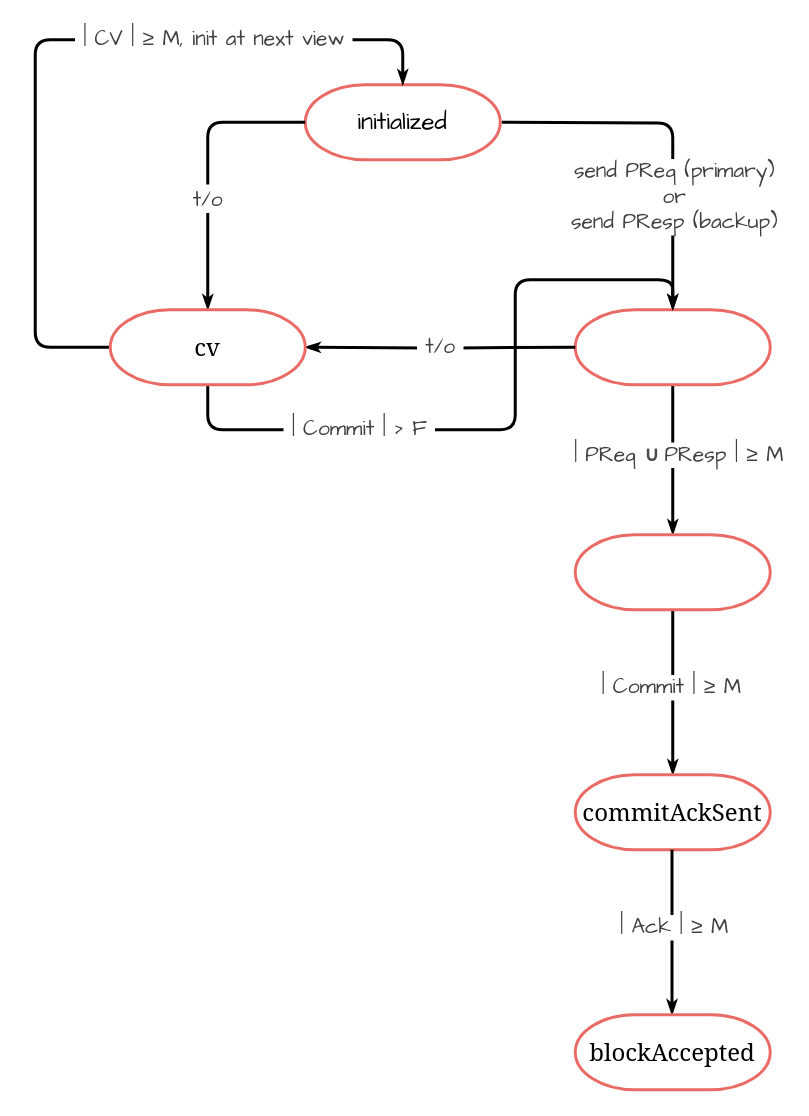
The diagram is 809 pixels wide and 1116 high, and some of its shapes have lost their labels. Here are the shapes that lost their labels. From the top down, the centre of each, then its label:
At [672,347]: "prepareSent".
At [672,571]: "commitSent".
